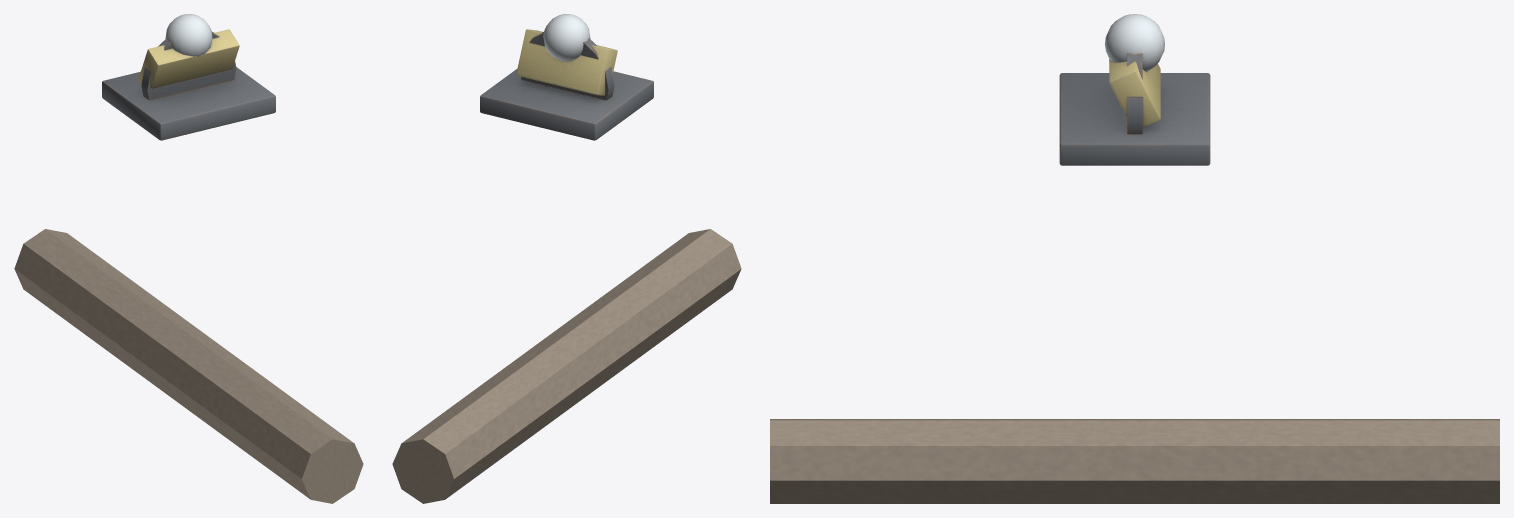
Rendered from heliograph.glb.
The picture shows the model from 3 angles, left to right: view 1: azimuth 30°, elevation 25°; view 2: azimuth 150°, elevation 25°; view 3: azimuth 270°, elevation 25°; orthographic projection. The views are drawn at different scales.
Parts seen in each view (by area): view 1: heliograph; view 2: heliograph; view 3: heliograph.
Boxes of the visible parts, x1,y1,x2,y2 form: heliograph: (14, 14, 363, 503); heliograph: (392, 14, 741, 503); heliograph: (770, 14, 1499, 503).
Bounding box in the file's own units: 0.34 × 1.07 × 1.45.
1 material, 1 textured.
